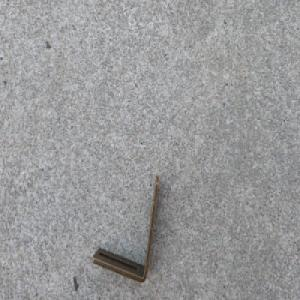MetalPart: (91, 174, 161, 286)
